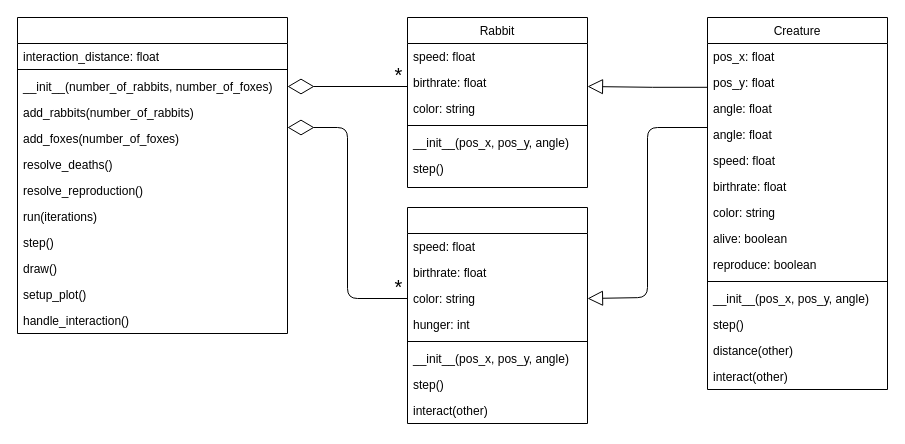
Image size: 905x444. Some labels were removed from this diagram. The shapes that lost their labels are listed below. From the top down, each one's box as (x1, y1, x2, y2) in pixels, then its label:
(16, 16, 288, 334): Experiment
(406, 206, 588, 424): Fox
